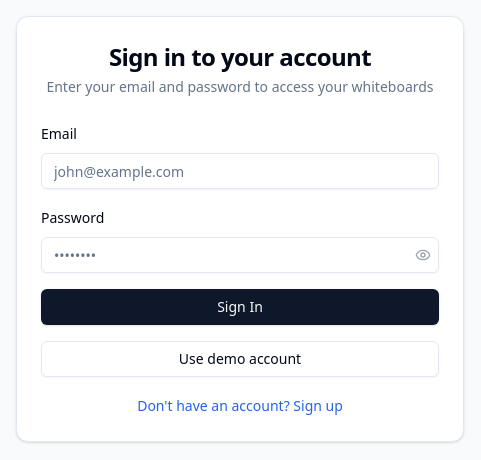
Scenario: AuthForm › fills the demo account when development login is enabled
Click the button "Use demo account" at point(240, 359), box [41,341,439,377]
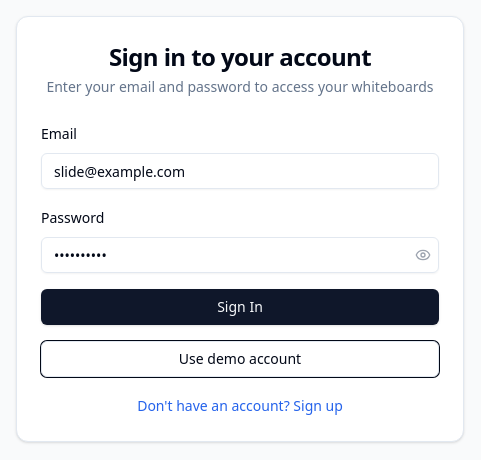
Expected: the field labelled "Email" holds "slide@example.com", [41,153,439,189]
Expected: the password field labelled "Password" holds "devpass123", [41,237,439,273]
